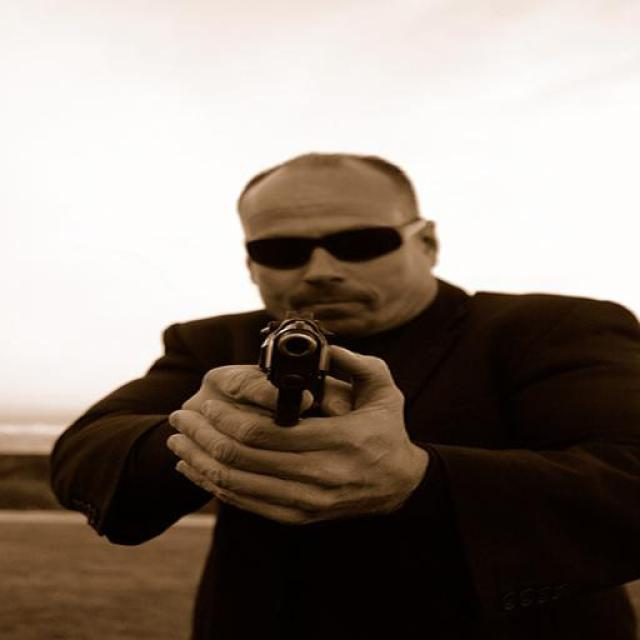pistol: (255, 307, 330, 425)
